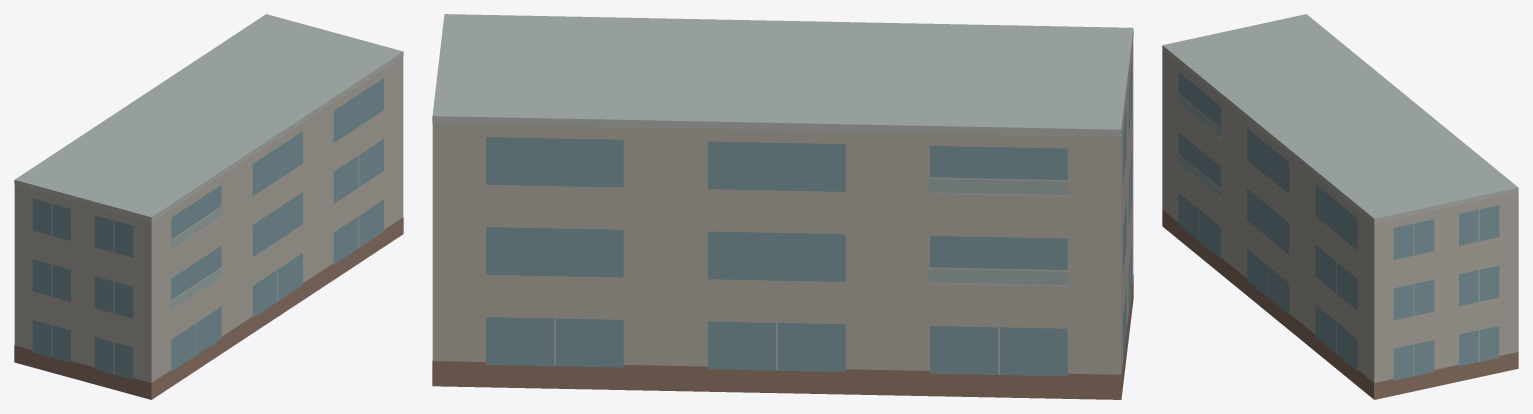
Rendered from survey-upis-32837181.glb.
3 renders of one model, left to right at view 1: azimuth 30°, elevation 25°; view 2: azimuth 150°, elevation 25°; view 3: azimuth 270°, elevation 25°, orthographic. The views are drawn at different scales.
Visible parts, largest first — view 1: survey-upis-32837181.tmp; view 2: survey-upis-32837181.tmp; view 3: survey-upis-32837181.tmp.
Boxes of the visible parts, left/top/right/bottom form: survey-upis-32837181.tmp: left=14, top=14, right=403, bottom=399; survey-upis-32837181.tmp: left=432, top=14, right=1133, bottom=399; survey-upis-32837181.tmp: left=1162, top=14, right=1518, bottom=399.
Bounding box in the file's own units: 22.2 × 9.15 × 16.32.
